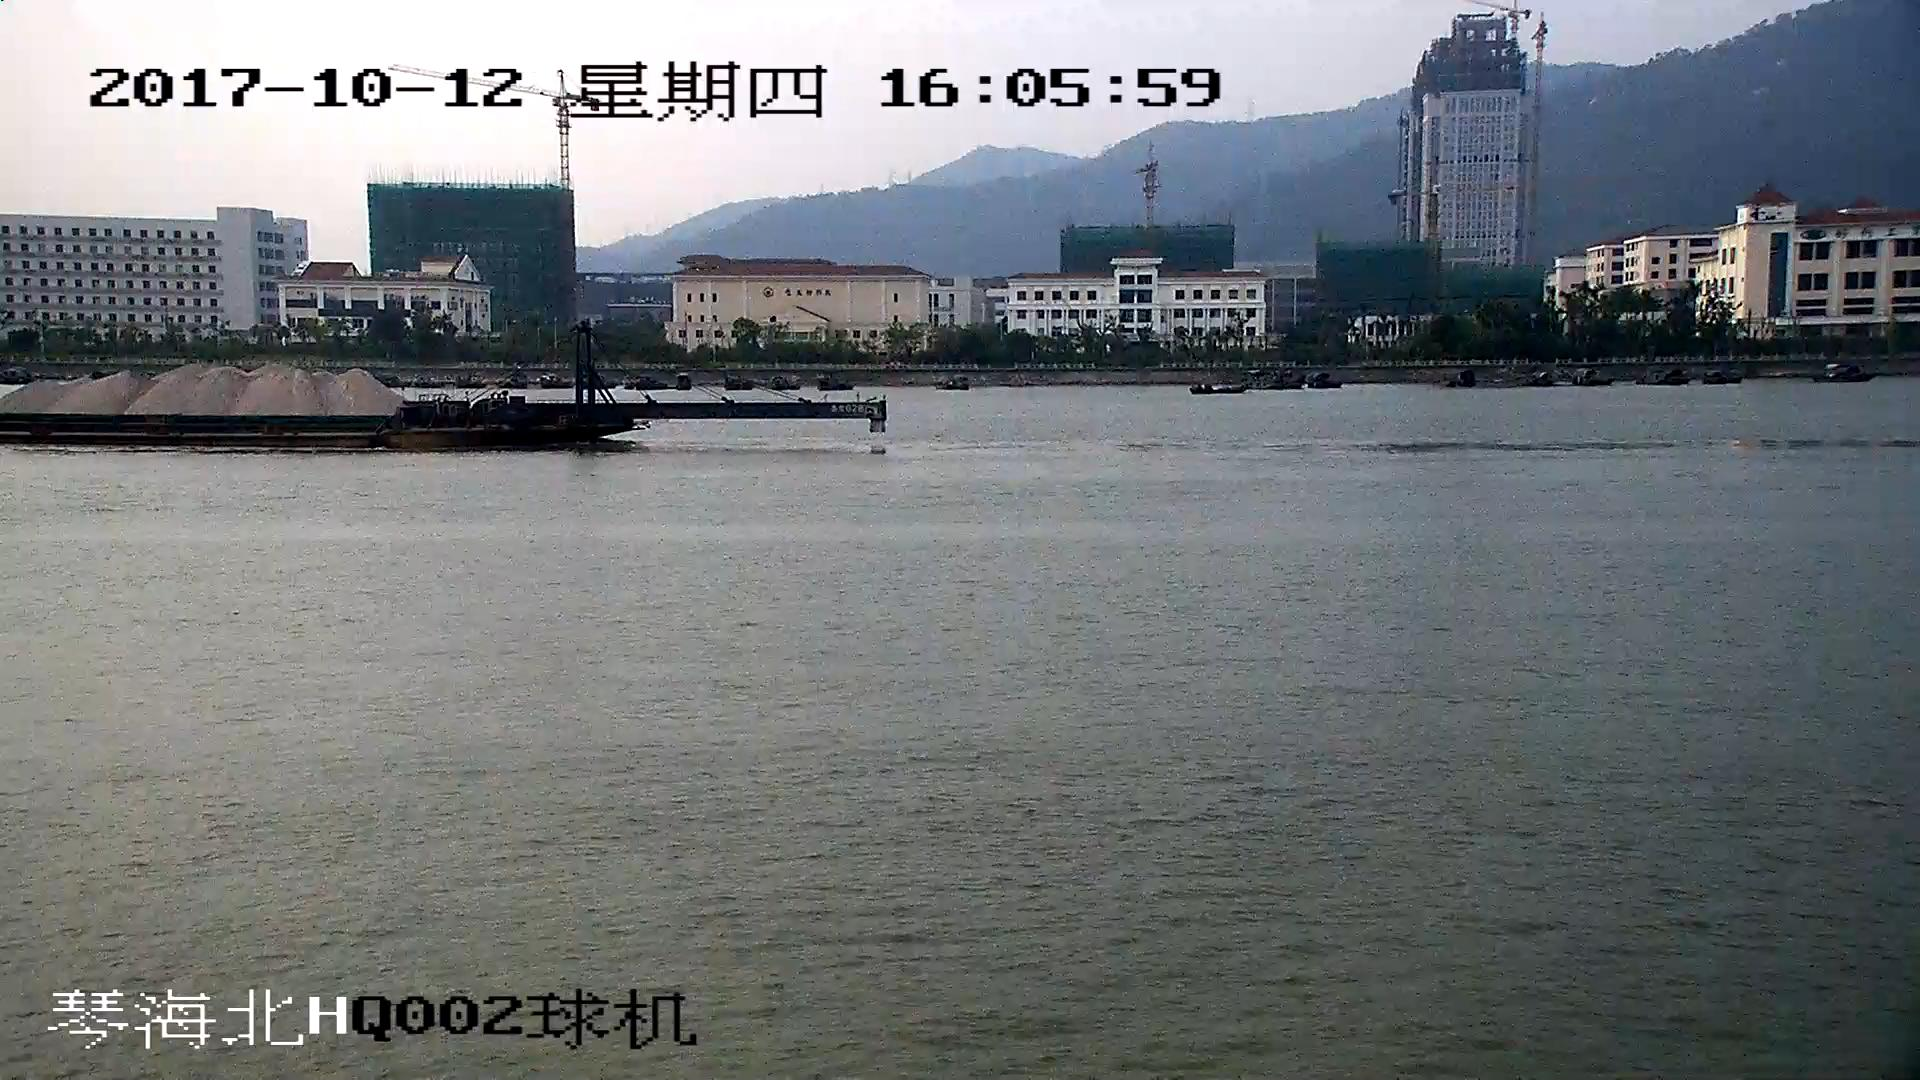ore carrier: (1, 322, 886, 455)
